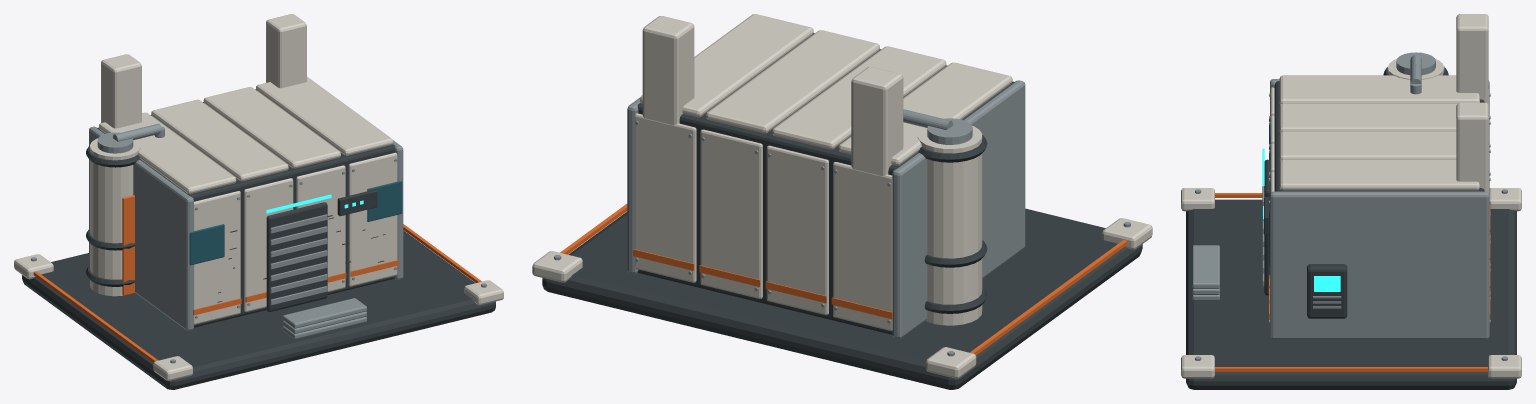
File: SM_ControlSystemsAssembly_Body.001.fbx
The picture shows the model from 3 angles, left to right: view 1: azimuth 30°, elevation 25°; view 2: azimuth 150°, elevation 25°; view 3: azimuth 270°, elevation 25°; orthographic projection. The views are drawn at different scales.
Parts seen in each view (by area): view 1: SM_ControlSystemsAssembly_Body.001; view 2: SM_ControlSystemsAssembly_Body.001; view 3: SM_ControlSystemsAssembly_Body.001.
Boxes of the visible parts, bbox=[...] form: SM_ControlSystemsAssembly_Body.001: bbox=[14, 14, 503, 389]; SM_ControlSystemsAssembly_Body.001: bbox=[532, 14, 1152, 389]; SM_ControlSystemsAssembly_Body.001: bbox=[1181, 14, 1521, 389].
Size of the model in its own units: 532 by 422 by 328.
